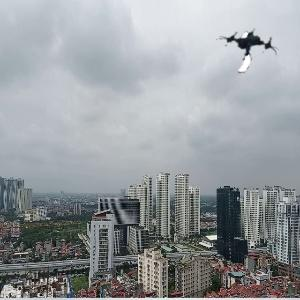drone: (218, 18, 279, 79)
